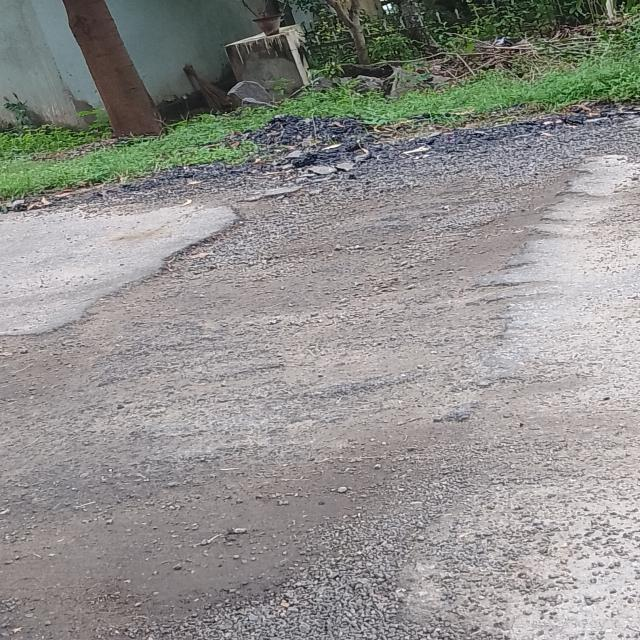potholes: (138, 185, 600, 640)
